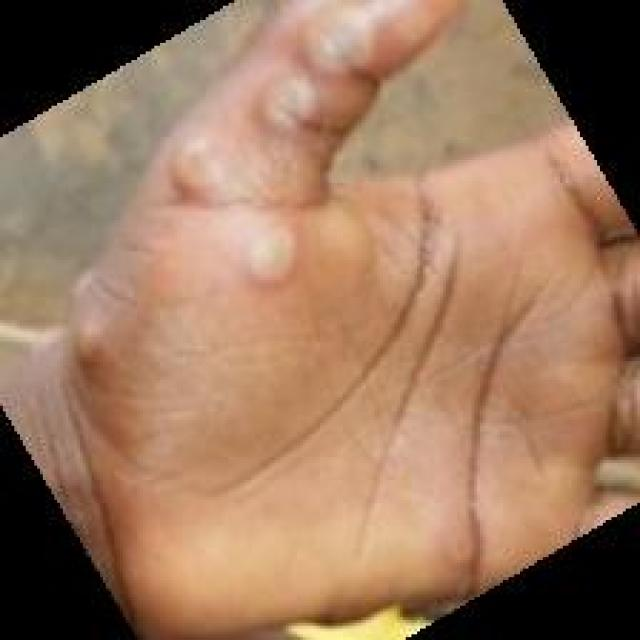monkeypox: (89, 0, 621, 501)
